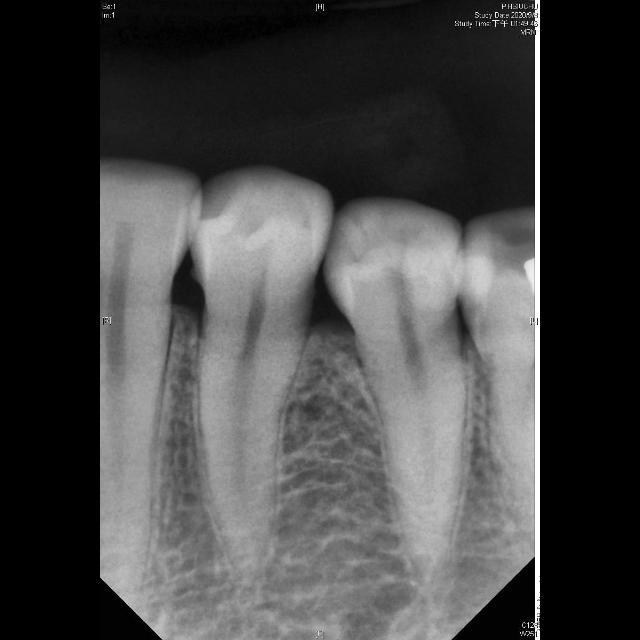tooth: (192, 167, 331, 574), (325, 199, 468, 572)
